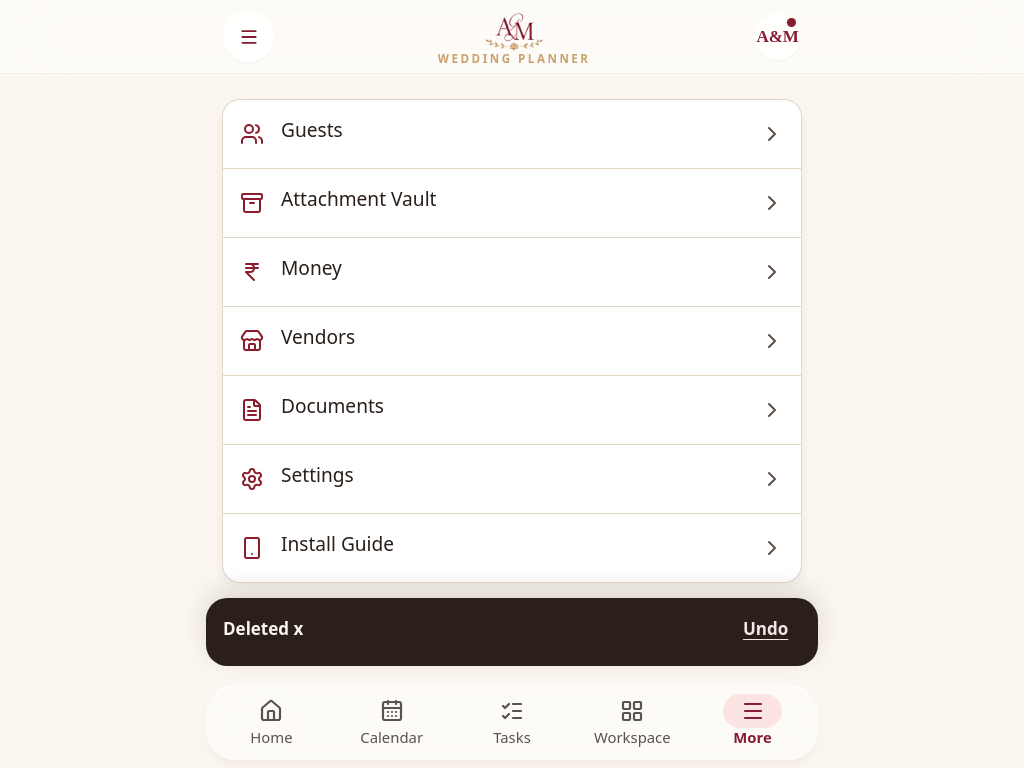
it: Undo snackbar › too late: the server sentence is shown
Expected: the heading named "More" is shown, 438,2 -> 590,68
Step 1. Click the button "Undo" → click(766, 632), box 730,606 -> 801,658
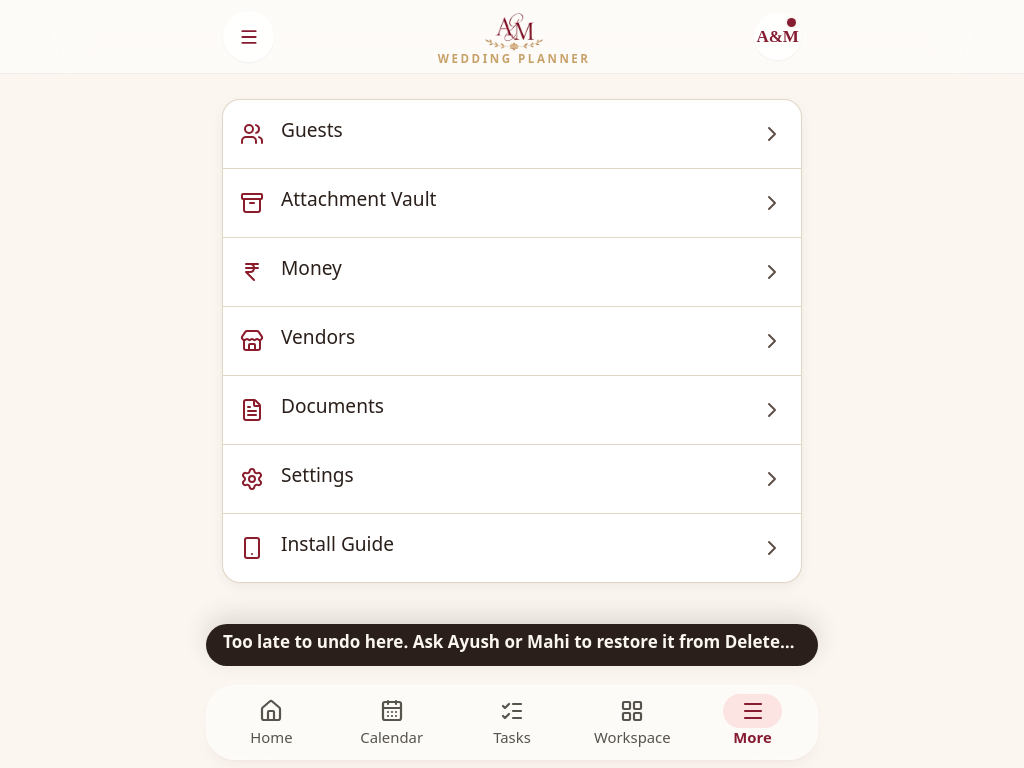
Expected: the text "Too late to undo here" is shown, 223,633 -> 848,655
